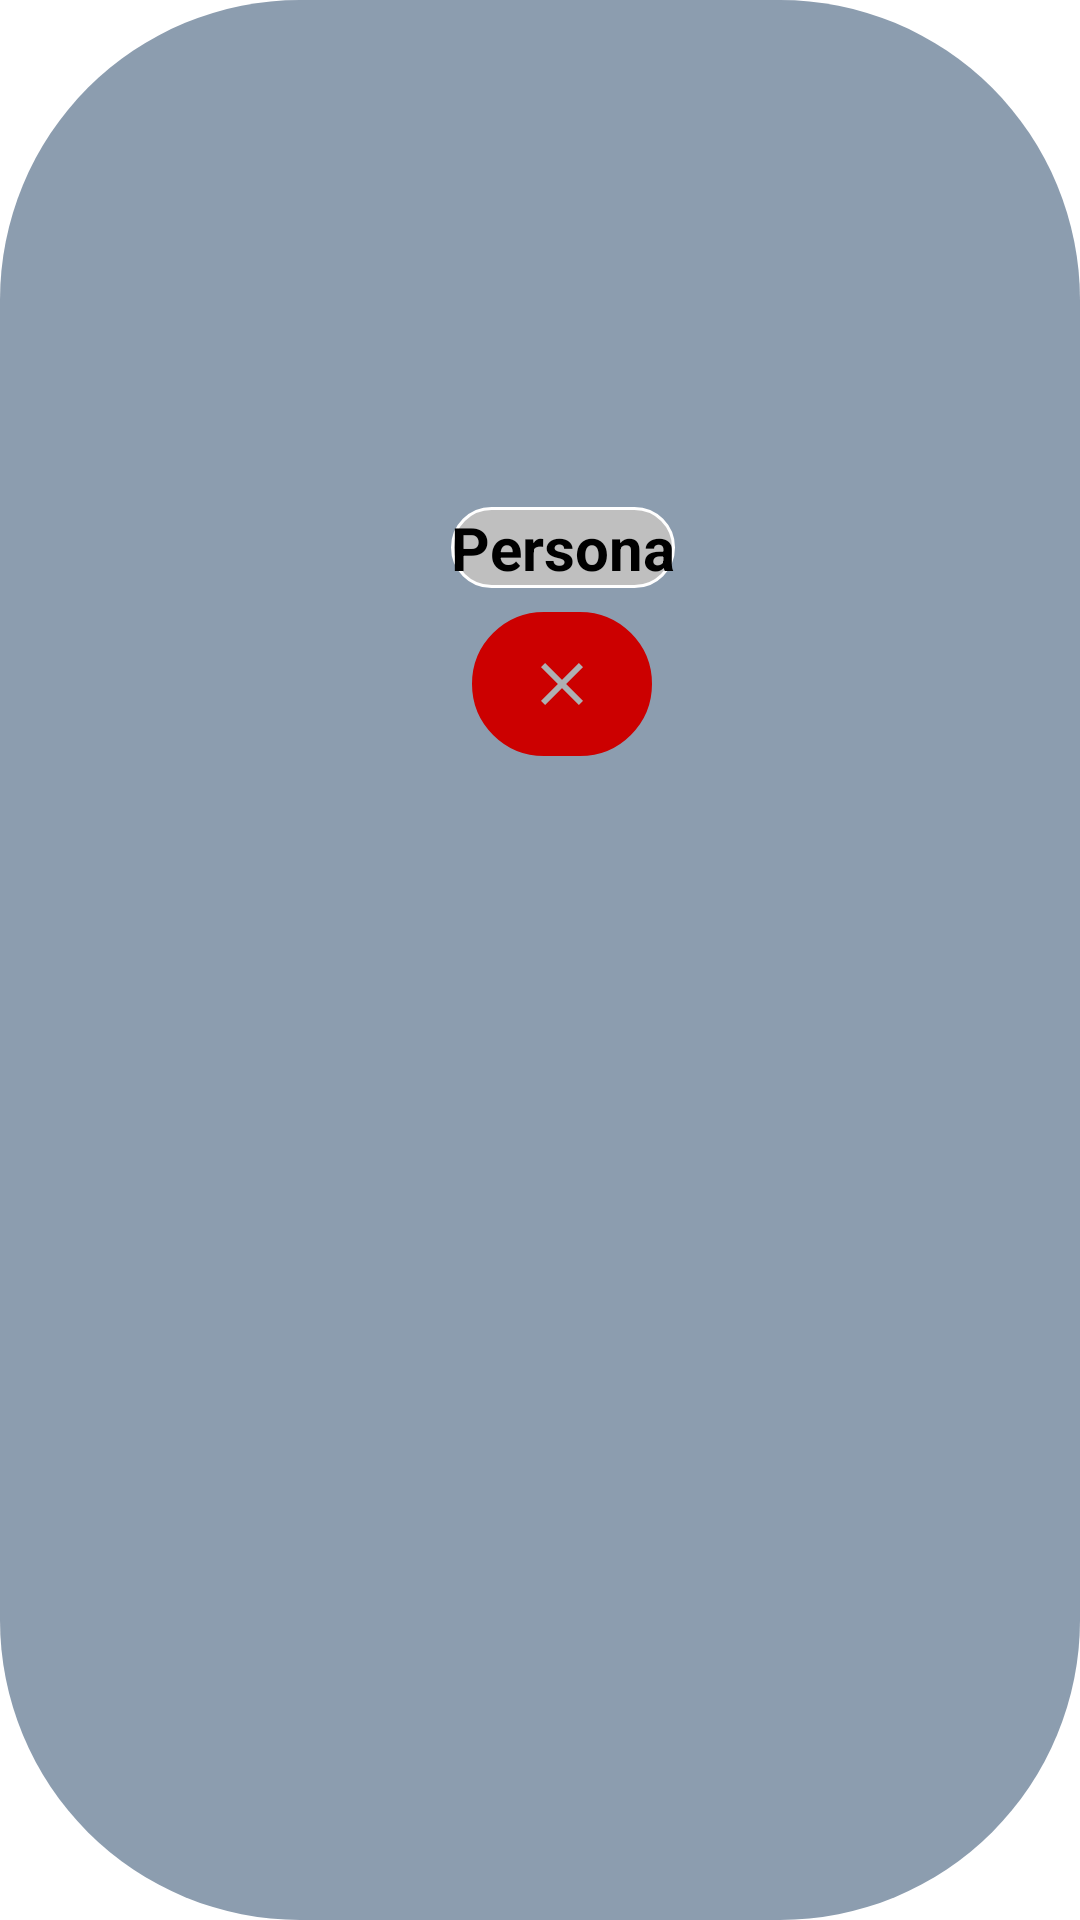

Icon click points for this 1080 x 1920 phone screenshot, format (x,y):
clear: (562,684)
